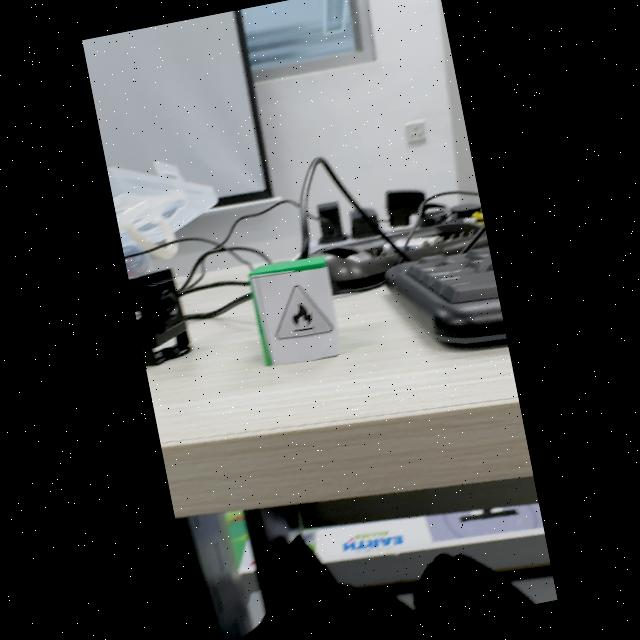Fire: (276, 285, 334, 339)
